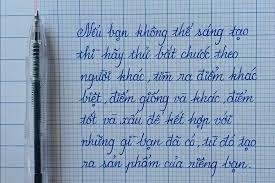text: (79, 65, 258, 91), (80, 131, 257, 157), (76, 21, 249, 47), (78, 88, 255, 113), (81, 153, 252, 178), (76, 43, 239, 69), (79, 109, 234, 131)
